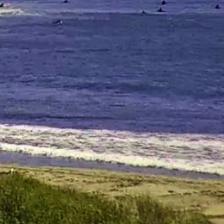surfer: (154, 8, 164, 14), (52, 20, 63, 25), (140, 10, 148, 16), (214, 4, 222, 10), (61, 0, 70, 5), (160, 0, 166, 6), (1, 2, 5, 8)
